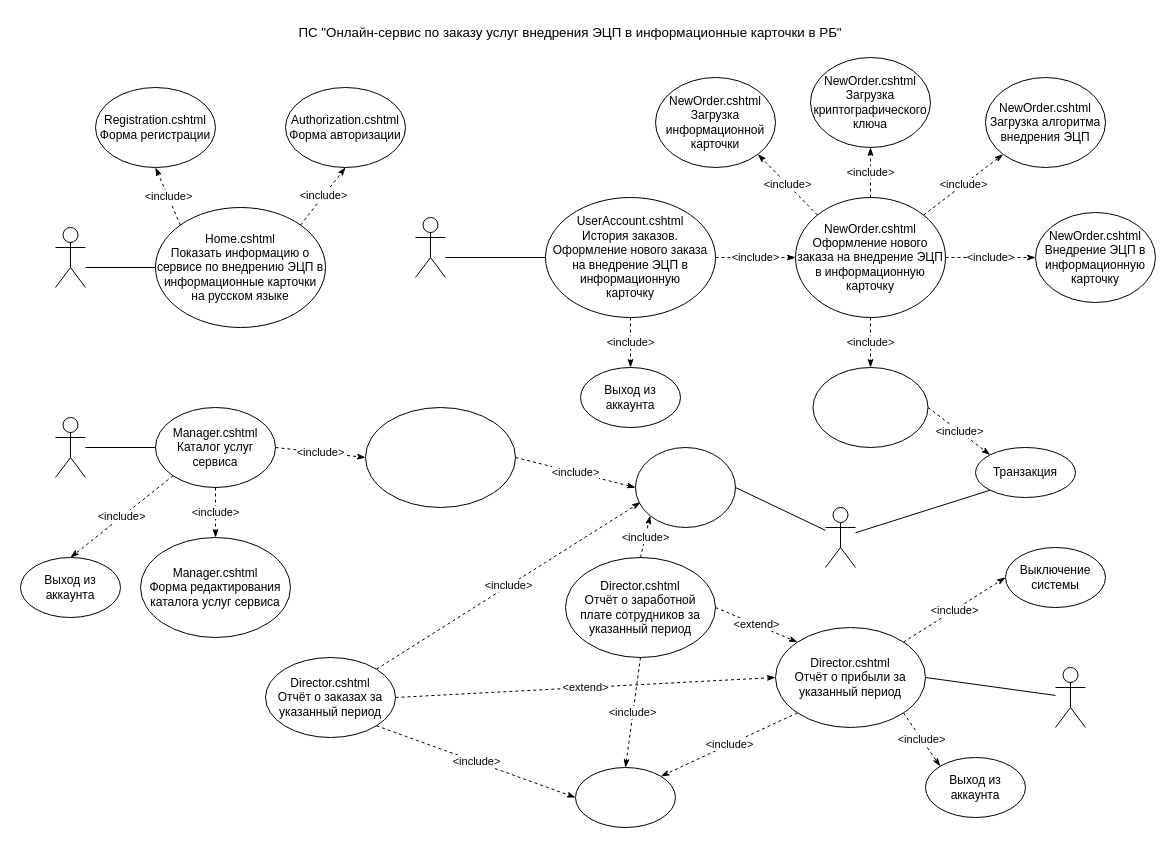
This 1173x845 diagram has some shape labels left out. Here are the shapes that lost their labels. From the top down, the centre of each, then its label:
At point (70, 257): "Неавторизованный пользователь".
At point (430, 247): "Авторизованный пользователь".
At point (870, 407): "Purchase.cshtml Форма оплаты заказа".
At point (70, 447): "Менеджер".
At point (440, 457): "Manager.cshtml Форма редактирования списка заказов".
At point (685, 487): "Предоставить отчёт платёжной системы".
At point (840, 537): "Платёжная система".
At point (1070, 697): "Директор".
At point (625, 797): "Печать отчёта".
